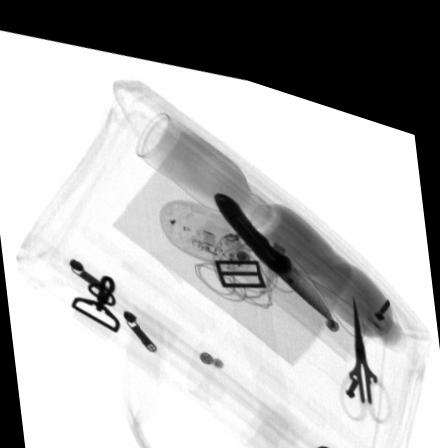Knife: (212, 178, 334, 304)
Scissors: (338, 272, 392, 400)
